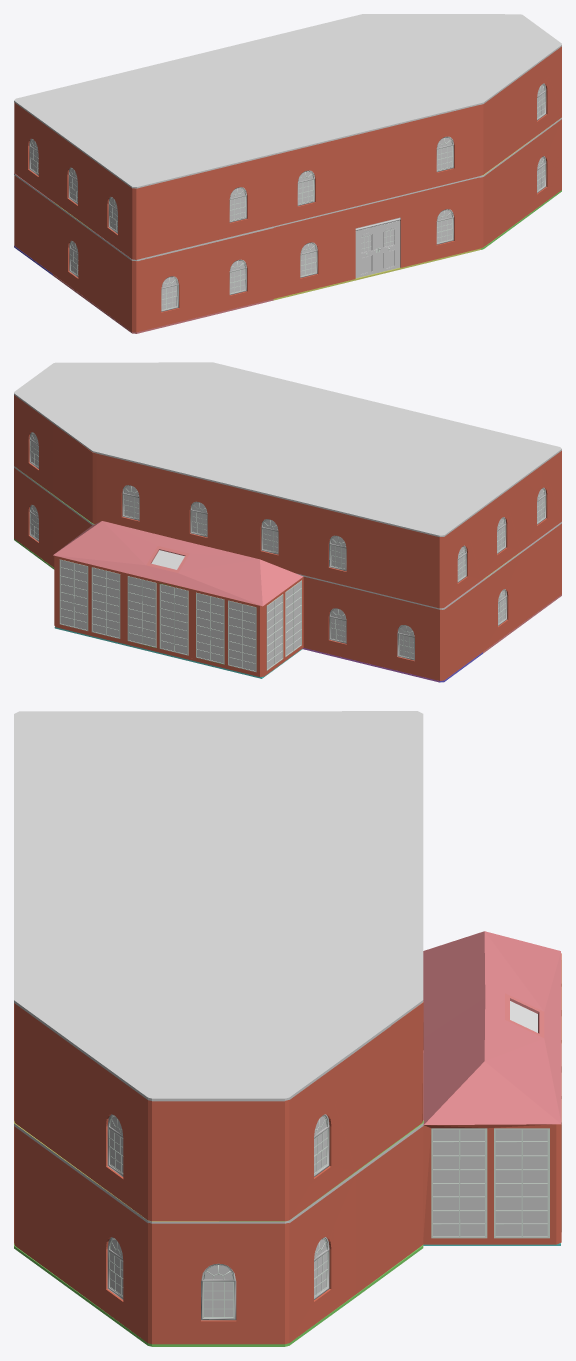
The model's file is mdl_VR_House04.fbx.
3 views of the same model, one above another, from view 1: azimuth 30°, elevation 25°; view 2: azimuth 150°, elevation 25°; view 3: azimuth 270°, elevation 25° (orthographic). The views are drawn at different scales.
Visible parts, largest first — view 1: Basic_Wall_01.041, Basic_Wall_01.123, Basic_Wall_01.116, Basic_Wall_01.111, Basic_Wall_01.040, Door.019, Door.020; view 2: Basic_Wall_01.041, Basic_Wall_01.116, Basic_Wall_01.123, Basic_Wall_01.111, Basic_Wall_01.040; view 3: Basic_Wall_01.041, Basic_Wall_01.116, Basic_Wall_01.123, Basic_Wall_01.111, Basic_Wall_01.040, Window_Frame_07.035.
Part boxes in pixels (x1,y1,x2,y2): Basic_Wall_01.041: (14,14,561,188); Basic_Wall_01.123: (14,46,561,259); Basic_Wall_01.116: (14,119,561,332); Basic_Wall_01.111: (14,190,561,333); Basic_Wall_01.040: (14,117,561,260); Door.019: (378,217,400,272); Door.020: (355,223,377,278); Basic_Wall_01.041: (14,362,561,536); Basic_Wall_01.116: (14,468,561,680); Basic_Wall_01.123: (14,395,561,608); Basic_Wall_01.111: (14,539,561,682); Basic_Wall_01.040: (14,466,561,609); Basic_Wall_01.041: (14,711,423,1101); Basic_Wall_01.116: (14,931,561,1344); Basic_Wall_01.123: (14,1001,423,1221); Basic_Wall_01.111: (14,1243,560,1346); Basic_Wall_01.040: (14,1050,423,1223); Window_Frame_07.035: (201,1263,236,1320).
Bounding box in the file's own units: 2758 × 824 × 1648.
